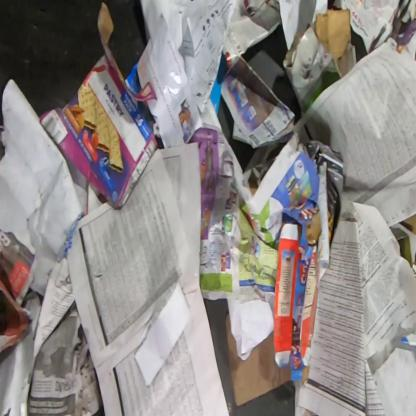cardboard: (39, 2, 159, 208), (273, 195, 323, 383), (282, 8, 352, 116), (224, 313, 290, 407)
